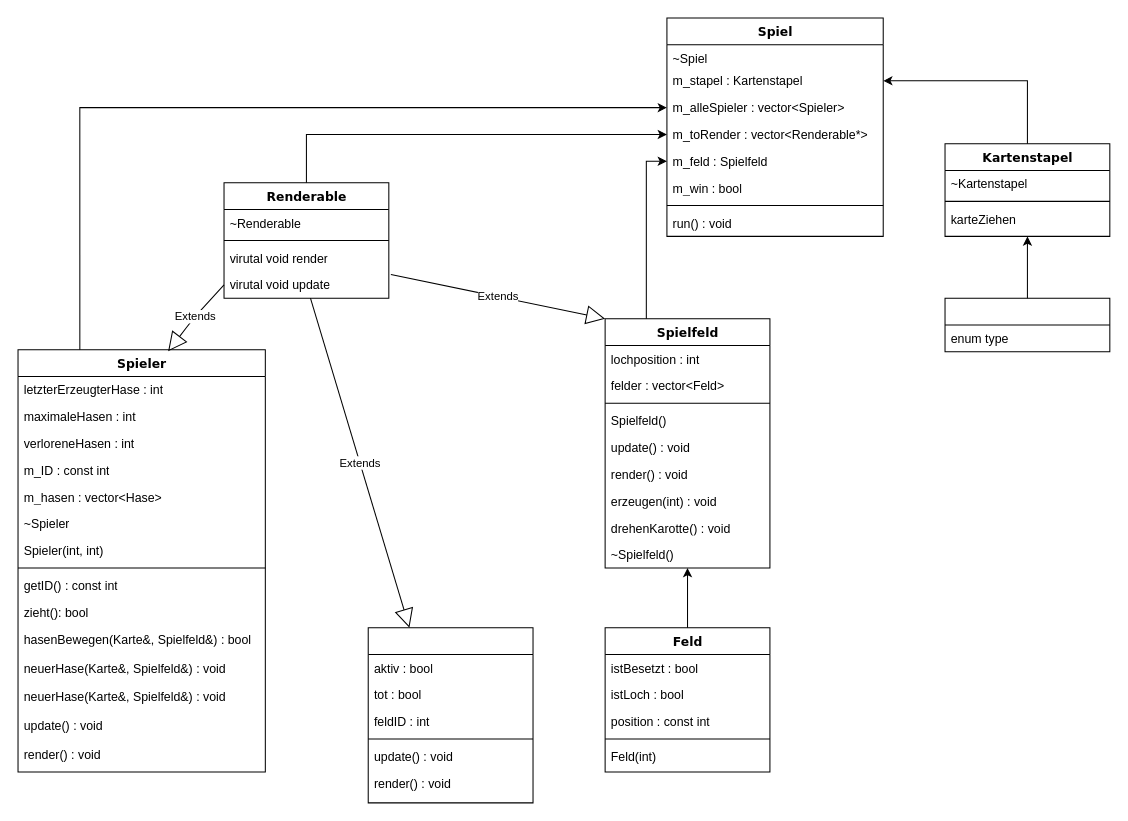
Image size: 1128x821. Some labels were removed from this diagram. The shapes that lost their labels are listed below. From the top down, each one's box as (x1, y1, x2, y2) in pixels, then its label:
(944, 297, 1110, 352): Karte
(367, 627, 533, 803): Hase
